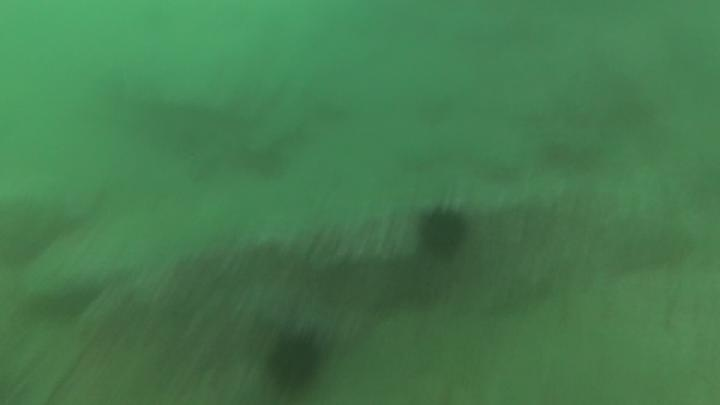echinus: (260, 324, 331, 400), (413, 200, 472, 263)
